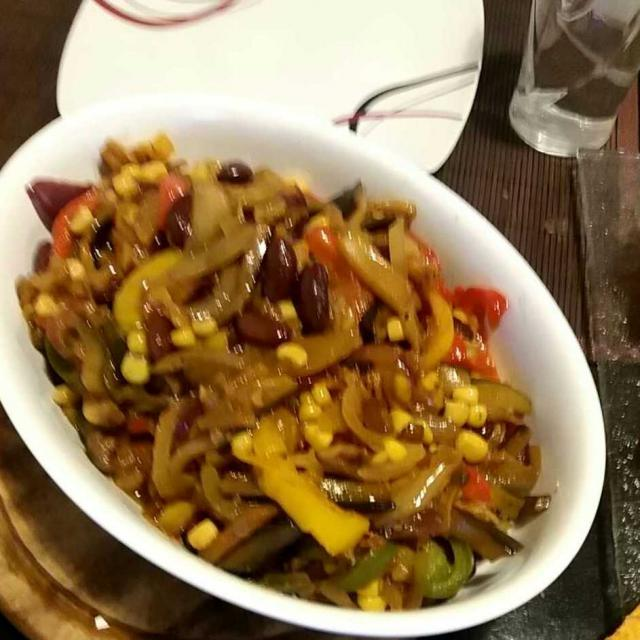mixed-vegetables: (61, 154, 549, 606)
